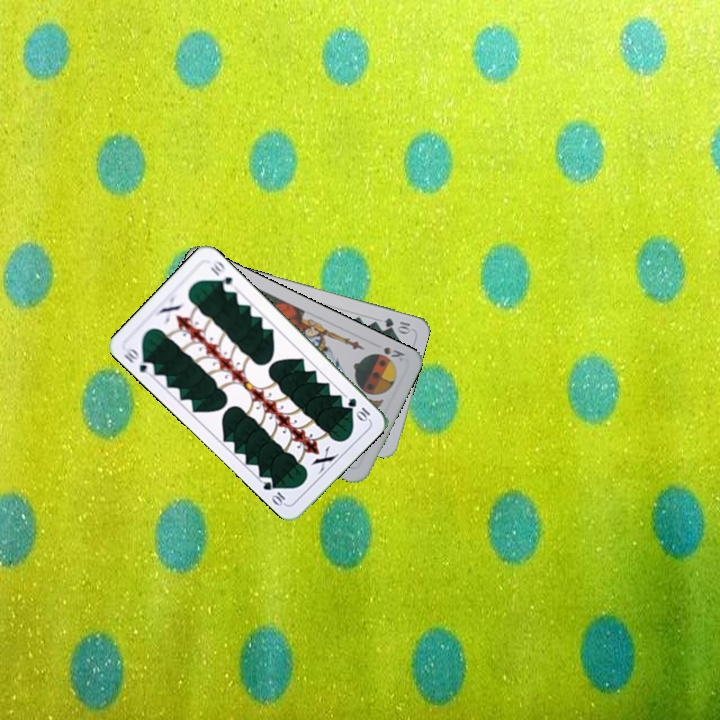G10: (119, 343, 157, 376), (344, 394, 373, 424), (380, 314, 414, 335)
SK: (380, 343, 407, 364)
